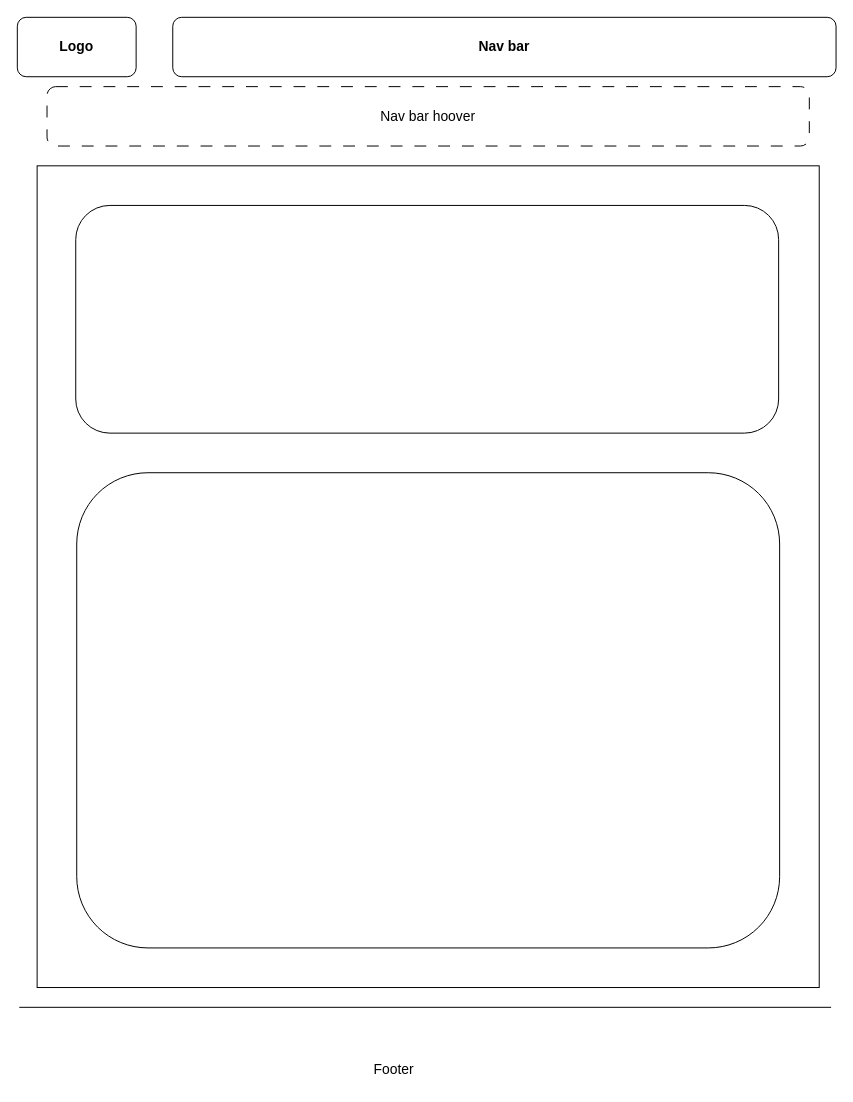
The diagram is 853 pixels wide and 1102 high, and some of its shapes have lost their labels. The centre of each missing label's shape, as x and y in pixels:
Stats: the point at 427,318
Stuff: the point at 428,710
